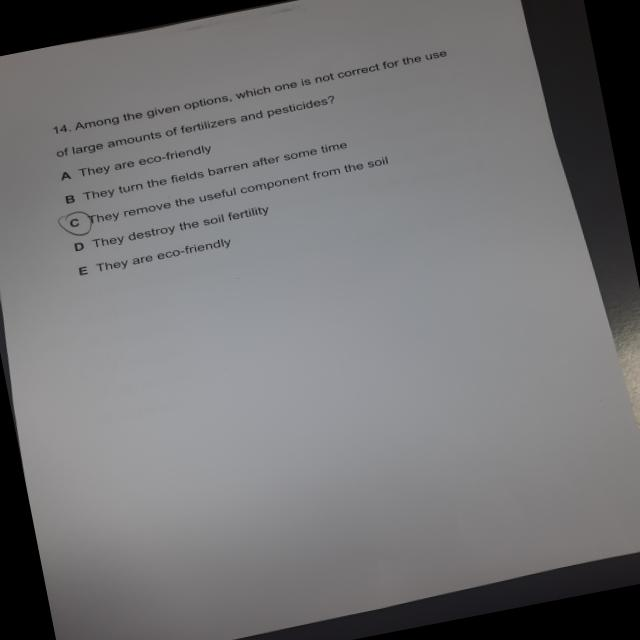C: (58, 208, 99, 242)
